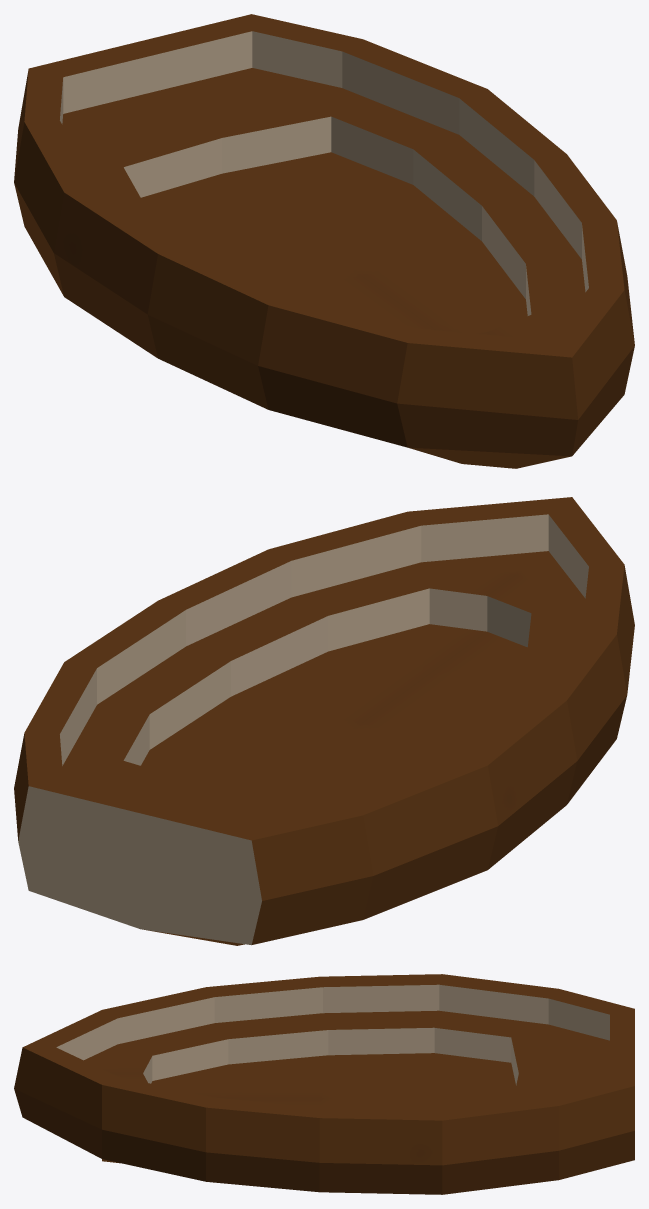
Rendered from boat.fbx.
3 views of the same model, one above another, from view 1: azimuth 30°, elevation 25°; view 2: azimuth 150°, elevation 25°; view 3: azimuth 270°, elevation 25° (orthographic). The views are drawn at different scales.
Parts seen in each view (by area): view 1: Boat; view 2: Boat; view 3: Boat.
Part boxes in pixels (<box>): Boat: <box>14,14,634,468</box>; Boat: <box>14,497,634,945</box>; Boat: <box>14,974,634,1194</box>.
Size of the model in its own units: 5.93 by 1.94 by 10.13.
1 material, 1 textured.
